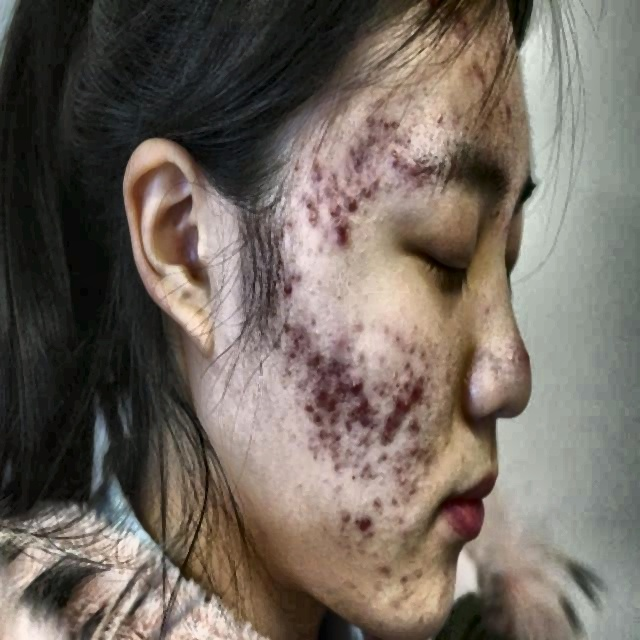papule: (296, 148, 338, 190), (276, 265, 309, 304), (338, 368, 372, 397), (326, 214, 352, 249), (339, 180, 361, 218), (289, 316, 309, 356), (354, 500, 374, 540), (362, 169, 387, 200), (378, 556, 398, 592), (314, 423, 336, 455), (396, 389, 413, 429), (463, 60, 485, 88), (358, 120, 378, 148), (394, 467, 413, 495), (409, 379, 426, 410), (381, 410, 395, 444), (389, 146, 406, 174), (316, 371, 332, 397), (305, 207, 319, 236), (409, 438, 424, 462), (302, 394, 314, 423), (352, 141, 364, 167), (305, 356, 319, 377), (352, 394, 364, 415)
